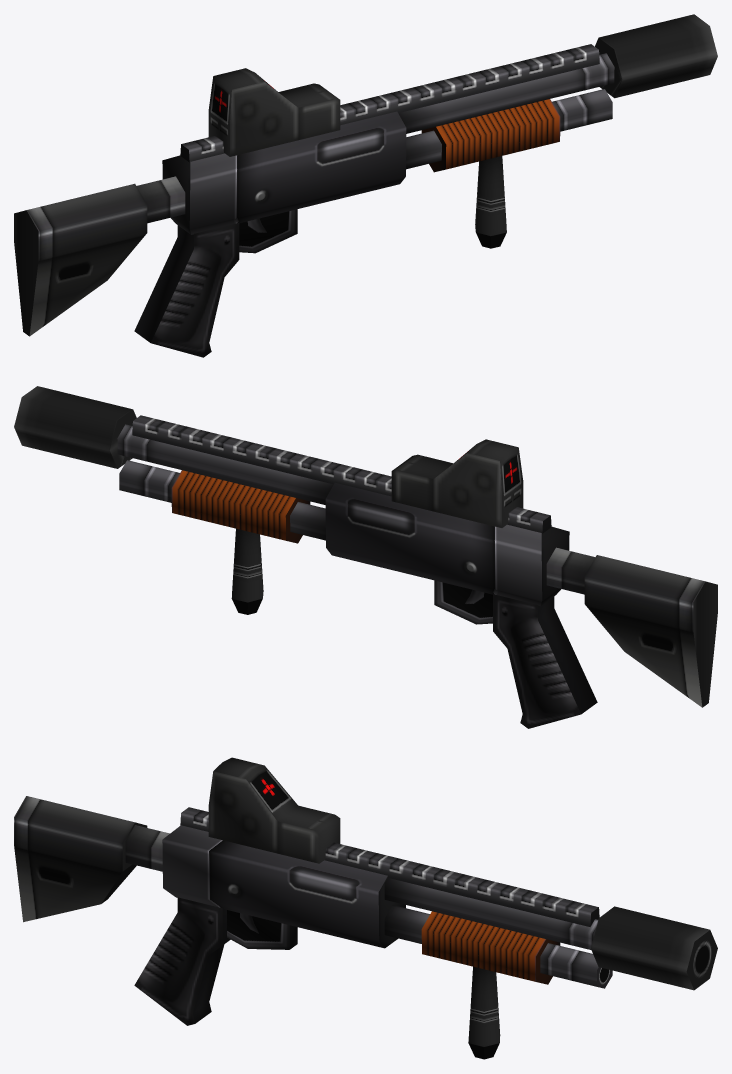
Rendered from shotgun m3 lv4.FBX.
3 renders of one model, top to bottom at view 1: azimuth 30°, elevation 25°; view 2: azimuth 150°, elevation 25°; view 3: azimuth 330°, elevation 25°, orthographic.
Parts seen in each view (by area): view 1: Object089; view 2: Object089; view 3: Object089.
Part boxes in pixels (x1=…): Object089: x1=14, y1=14, x2=717, y2=357; Object089: x1=14, y1=386, x2=717, y2=728; Object089: x1=14, y1=757, x2=717, y2=1059.
Bounding box in the file's own units: 86.52 × 32.34 × 6.97.
